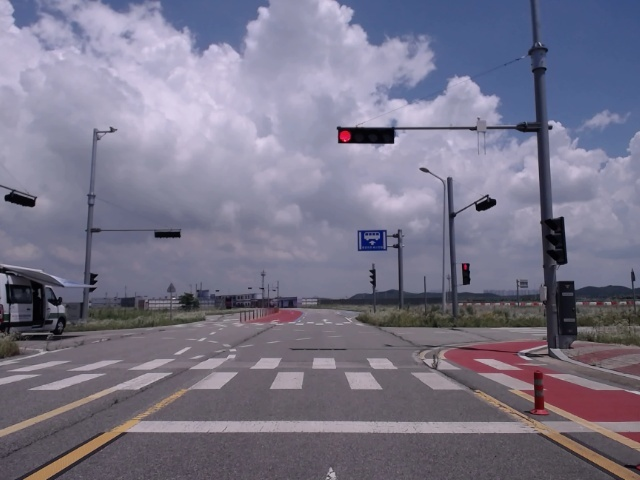red_4: (338, 128, 394, 144)
